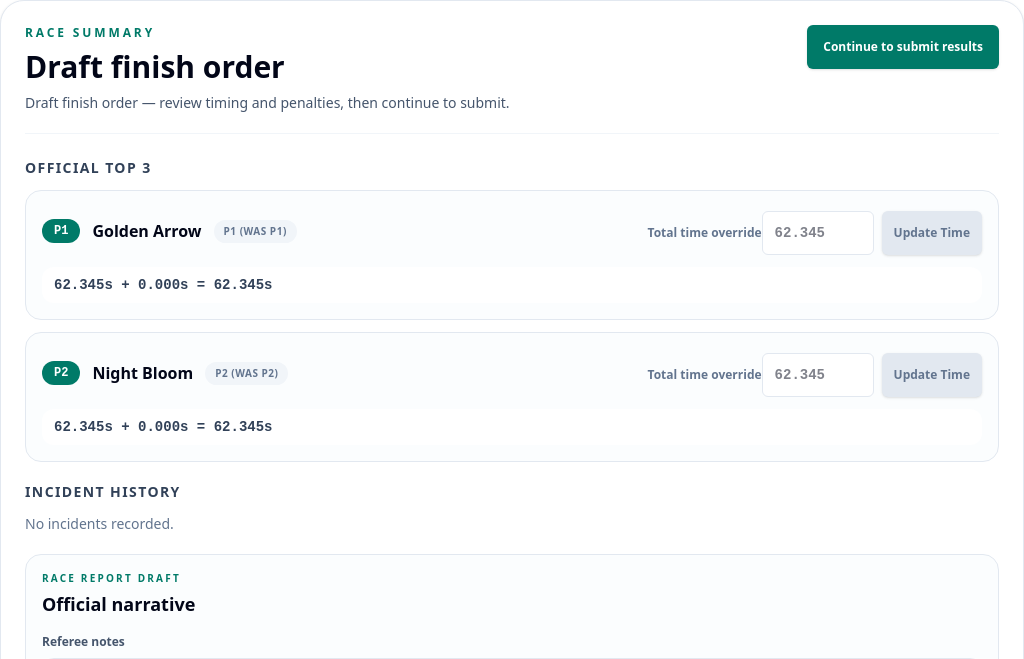
RefereeOfficiatePage › reorders draft rows only after Update Time is saved
Type "62.000" into the number field named "Override total time for Night Bloom". click: (818, 375)
box: [762,353,874,397]
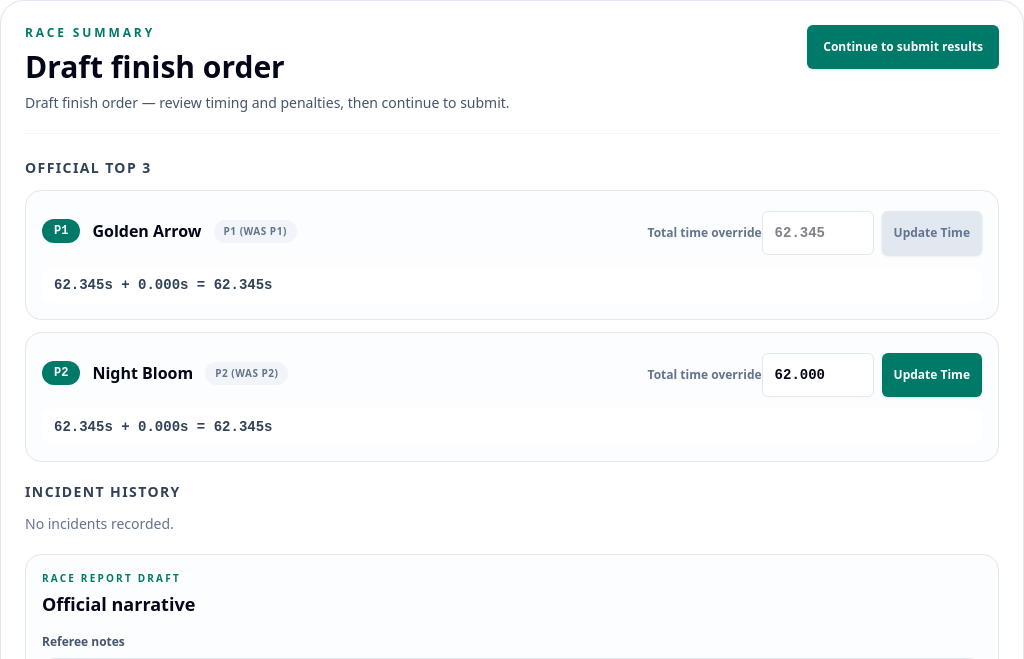
Expected: the text "P2 (was P2)" is shown, [205,362,288,384]
Click the button with aria-label "Update time for Night Bloom". click: (932, 375)
box: [882,353,982,397]
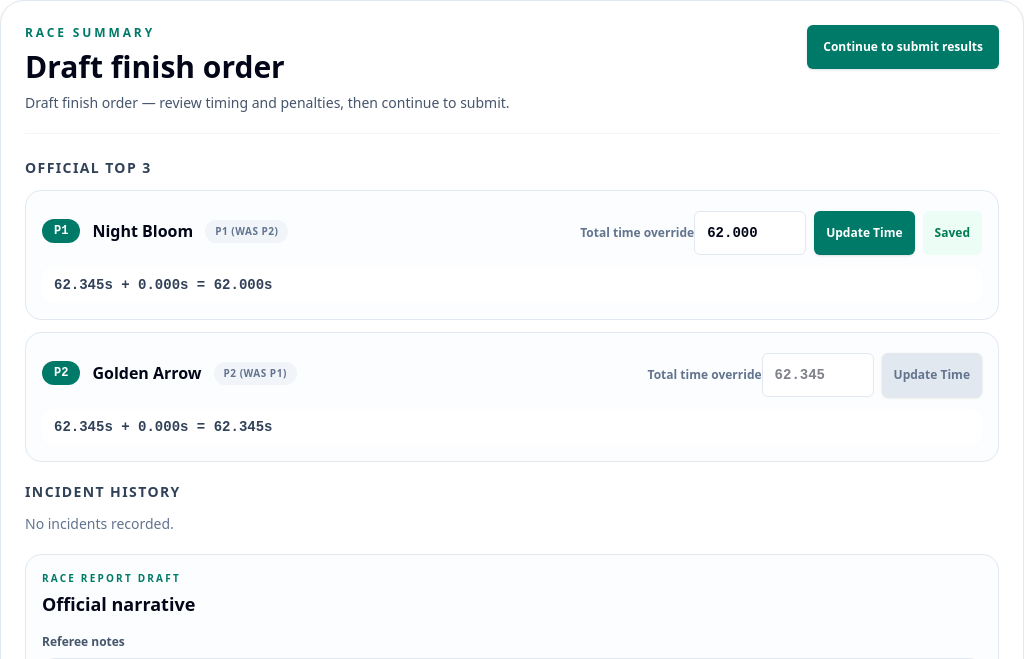
Now the text "P1 (was P2)" is shown, box [205,220,288,242]
